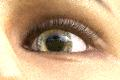eye: (38, 29, 70, 53)
